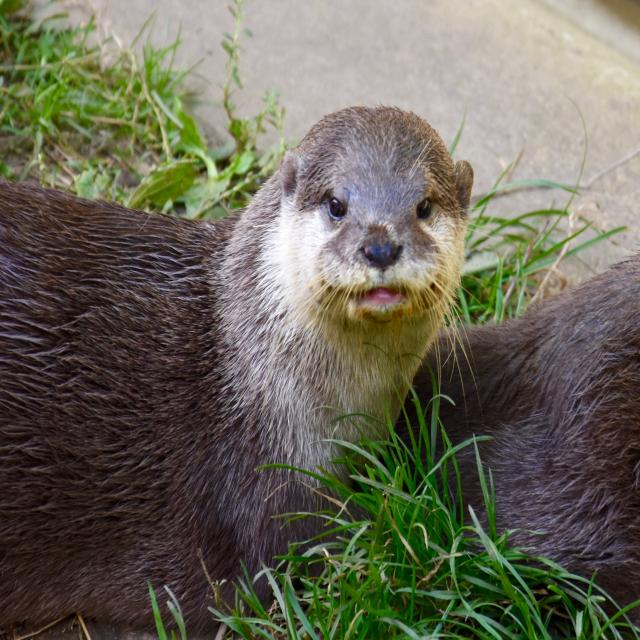otter: (1, 104, 471, 640)
